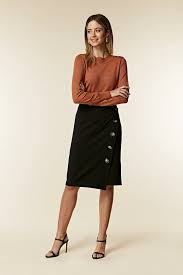F_tailored skirt: (64, 97, 130, 195)
